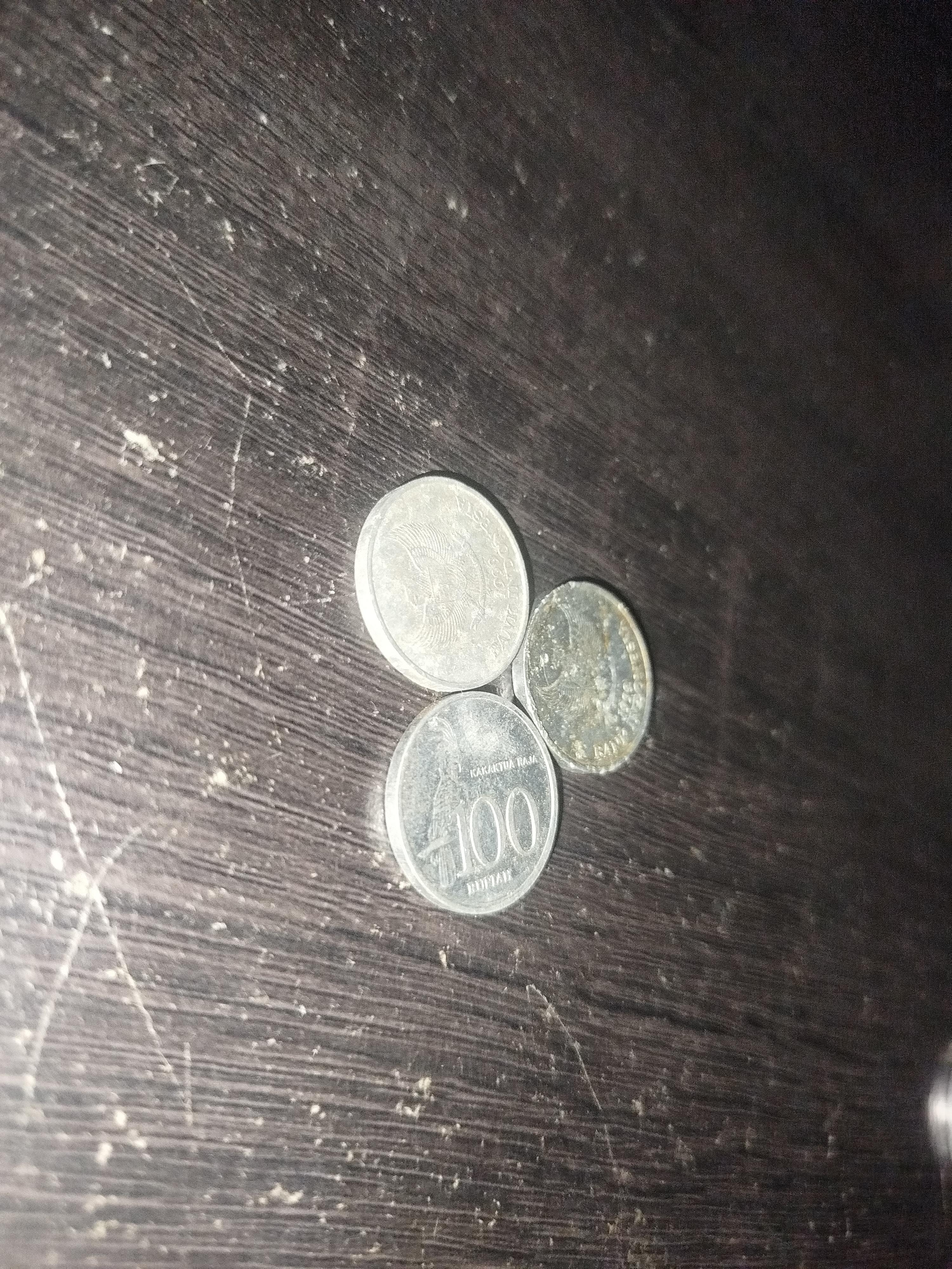coin_100_e1999: (359, 683, 562, 927), (355, 457, 539, 691), (524, 572, 654, 790)
